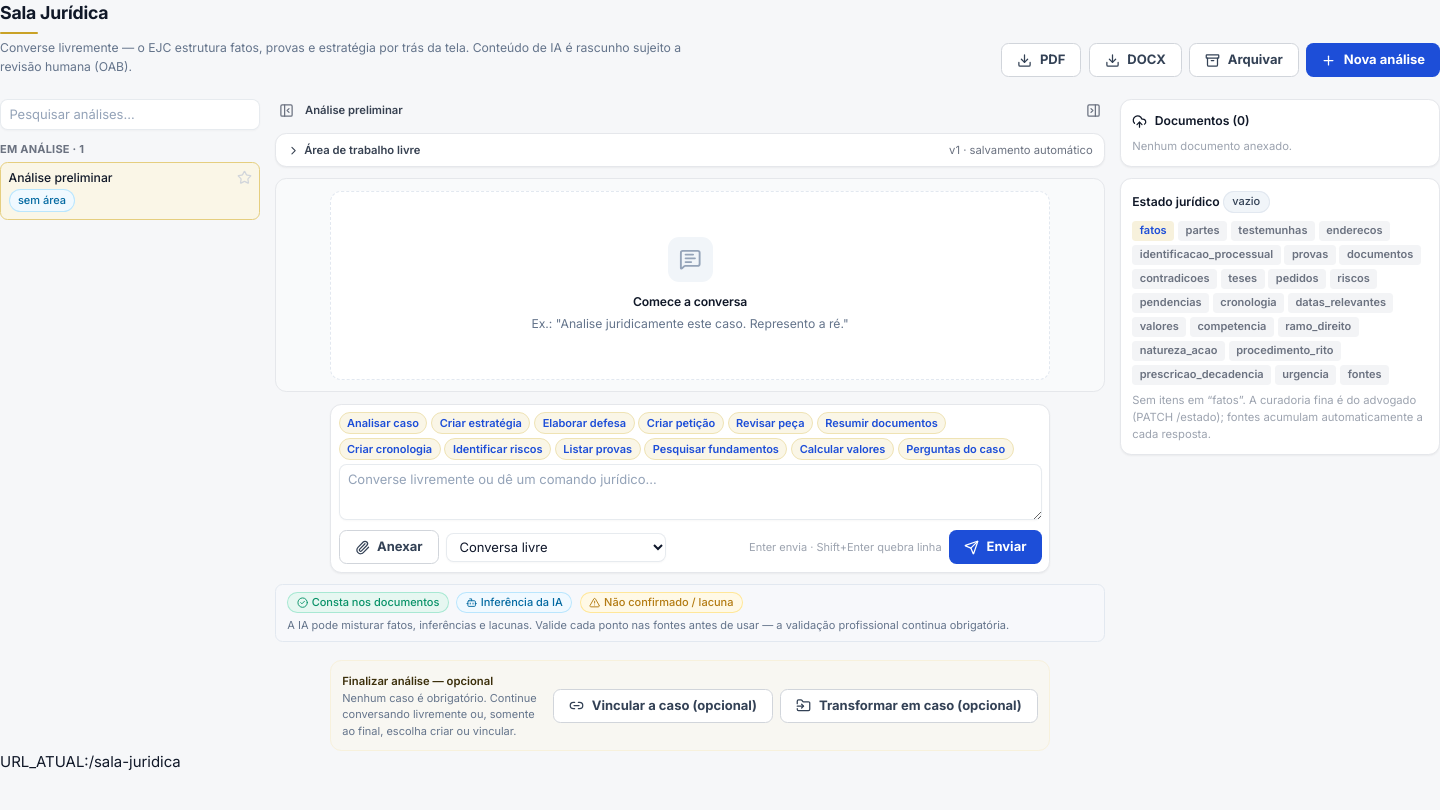
Test case: Sala Jurídica — wizard de conversão › o 409 do servidor revela o checkbox de duplicidade (não vira beco sem saída)
Expected: the text "Análise preliminar" below "Em análise" is shown, [8,170,112,185]
Click the button "Transformar em caso (opcional)" at (909, 706), box [780,689,1038,723]
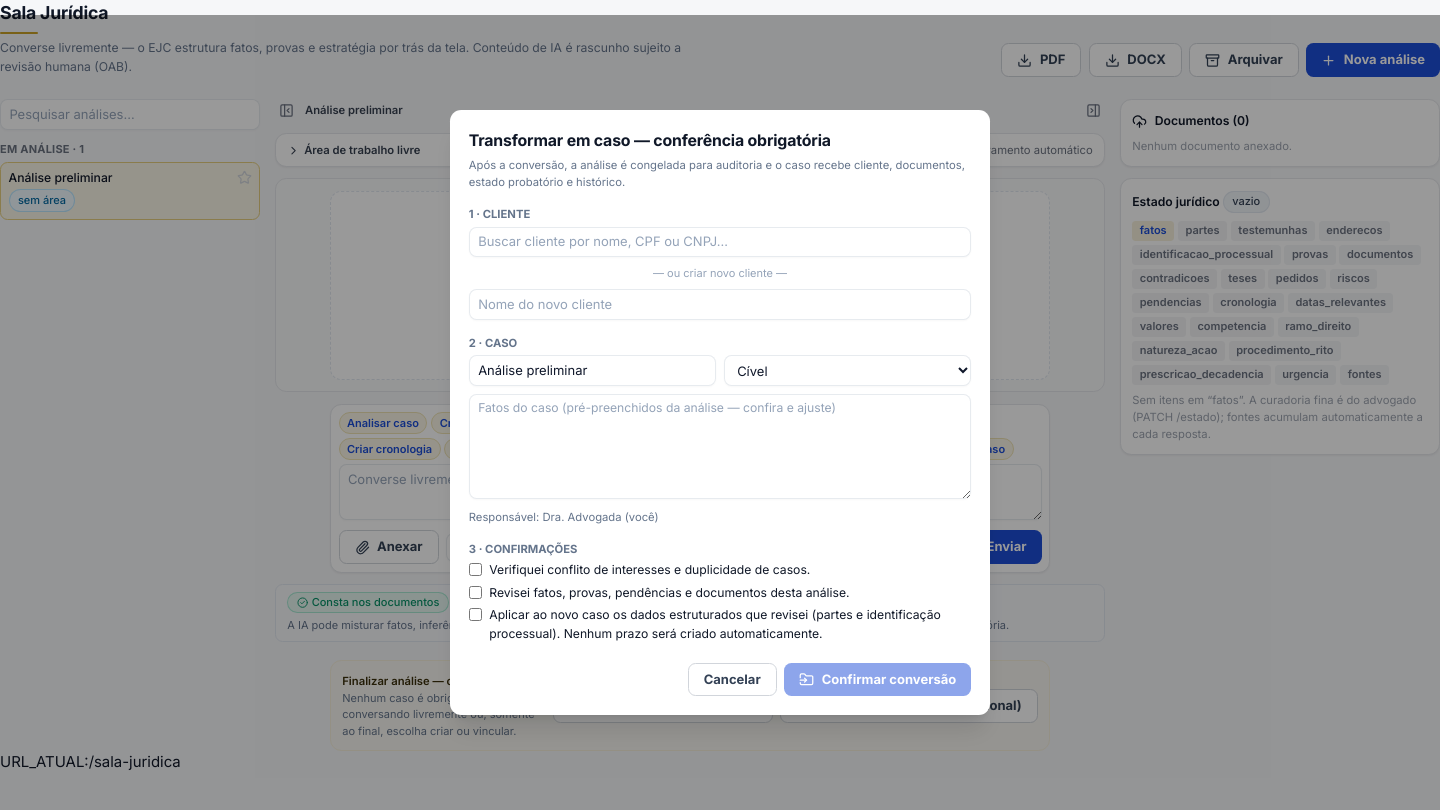
Result: the heading "Transformar em caso — conferência obrigatória" is shown at [469,131,831,150]
Type "Construtora Beta" into the field with placeholder "Nome do novo cliente" at (720, 304), box [469,289,971,320]
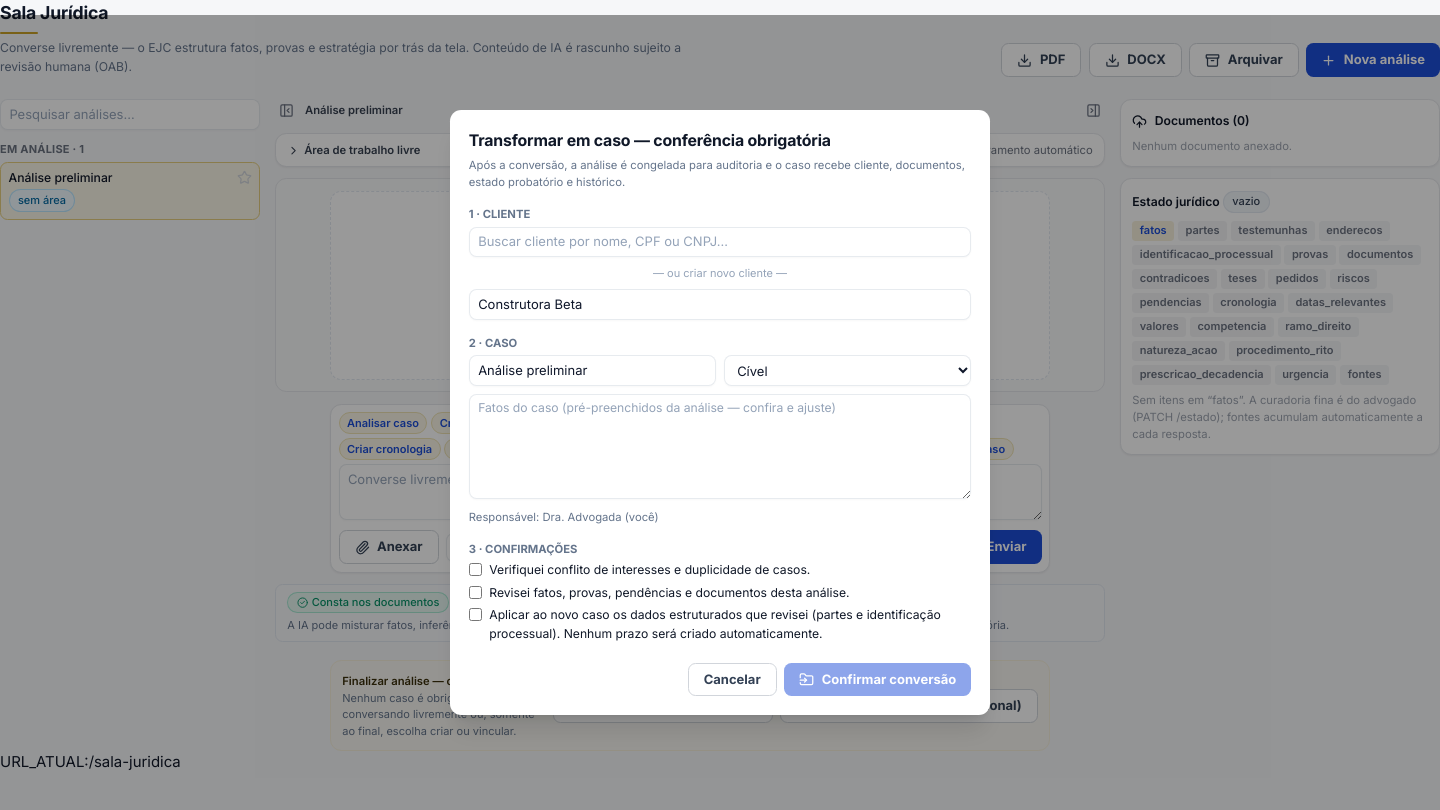
Click the checkbox labelled "Verifiquei conflito de interesses e duplicidade de casos." at (475, 570), box [469,563,482,576]
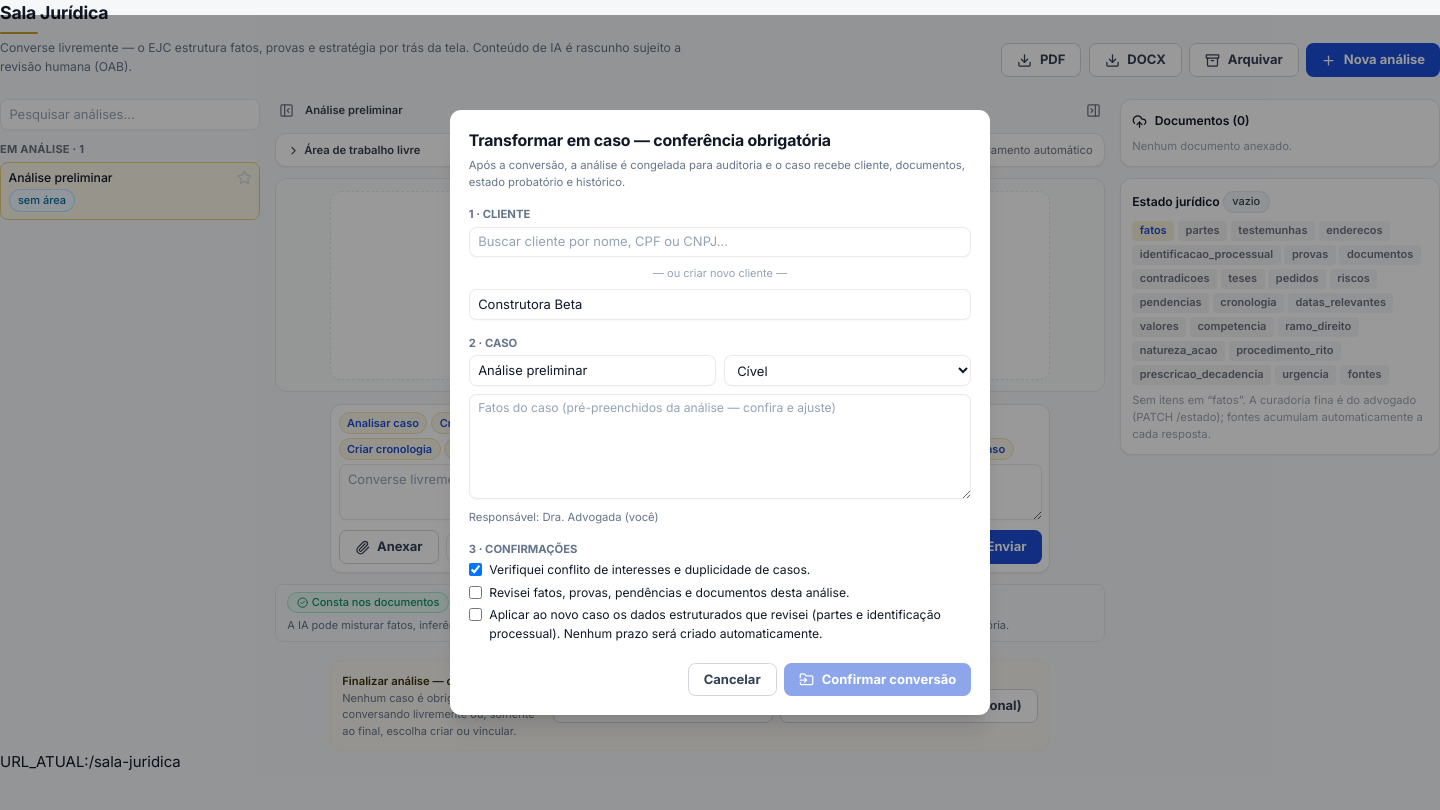
Click the checkbox labelled "Revisei fatos, provas, pendências e documentos" at (475, 592), box [469,586,482,599]
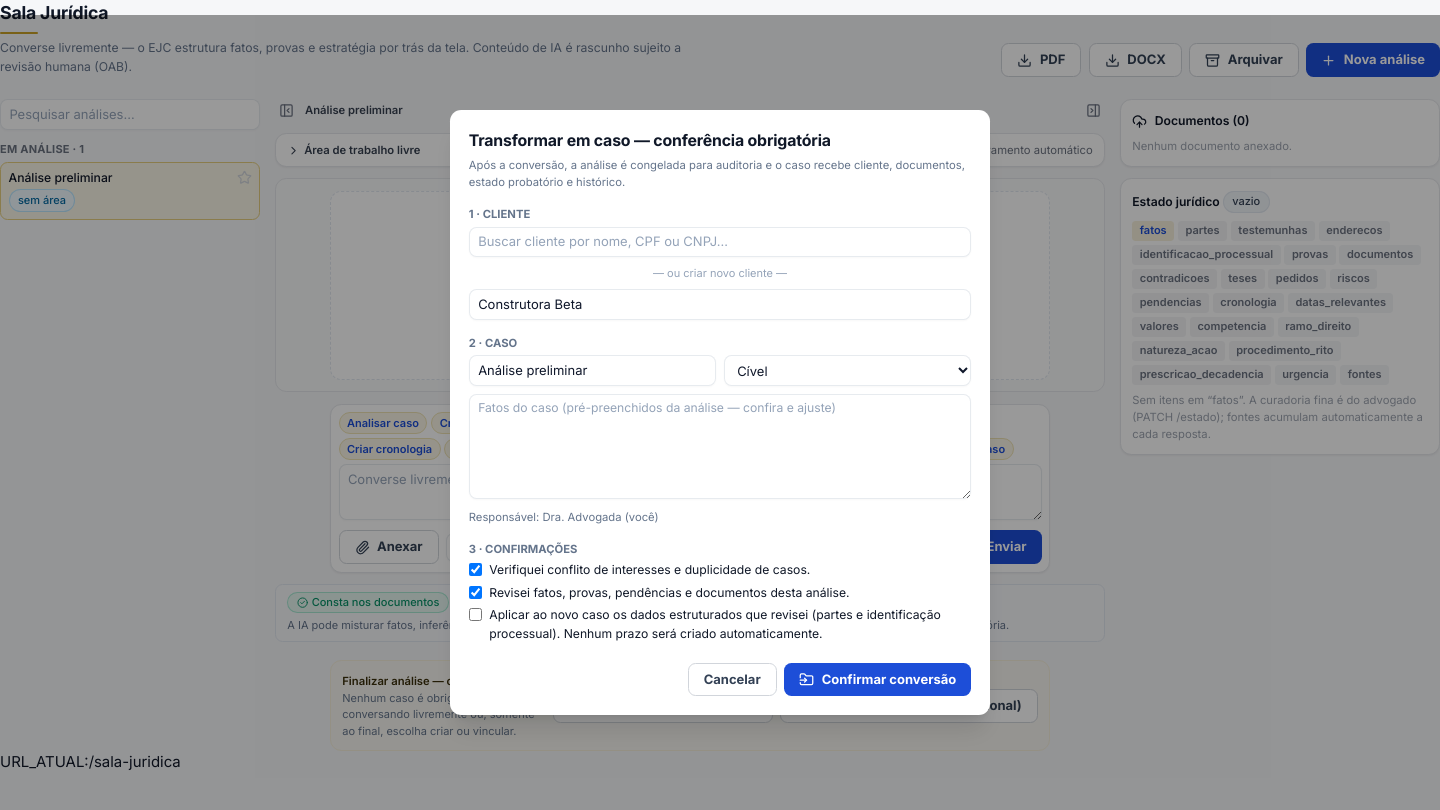
Result: the button "Confirmar conversão" is enabled
Click the button "Confirmar conversão" at (878, 679), box [784,662,971,696]
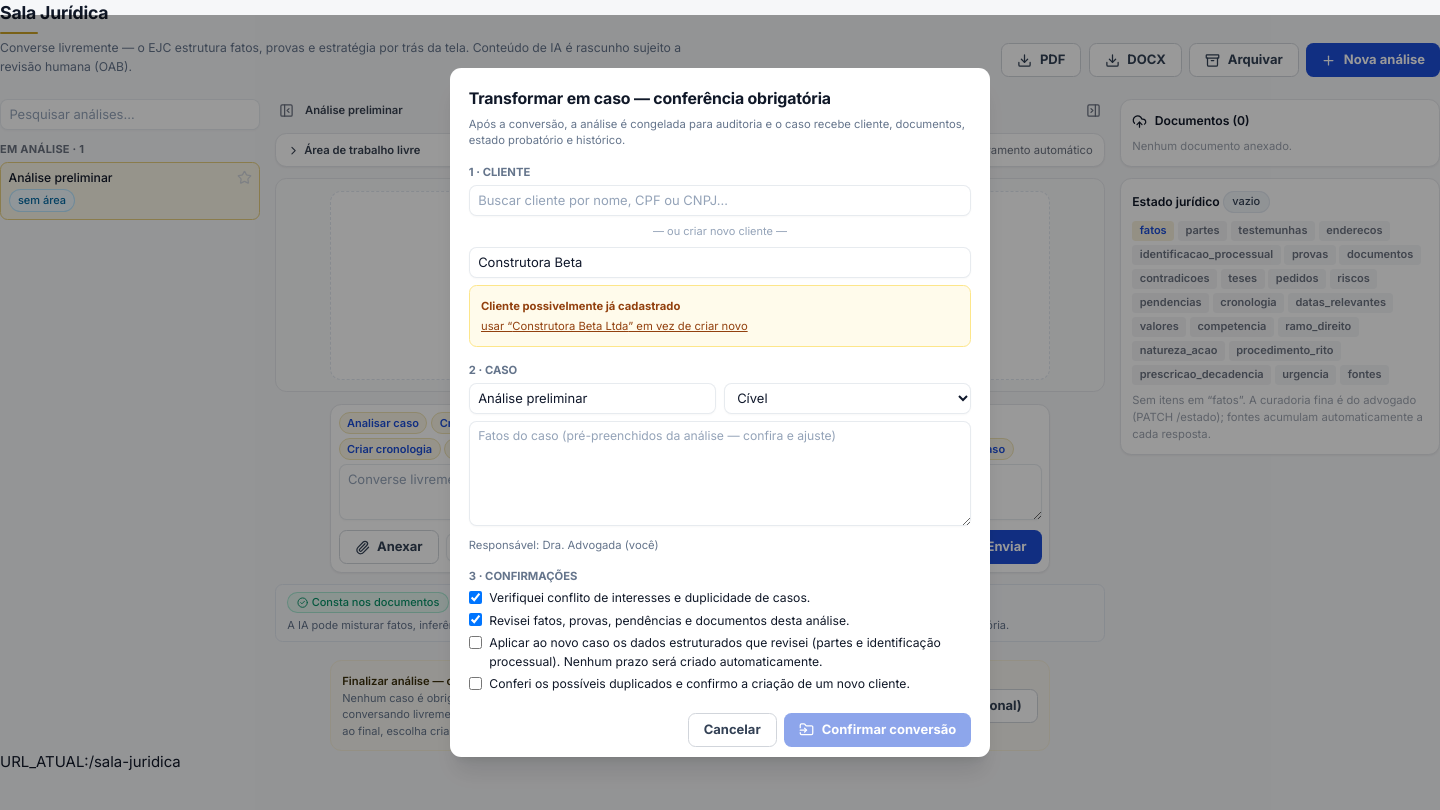
Result: the text "Cliente possivelmente já cadastrado" is shown at [481,299,680,313]
Result: the text "confirmo a criação de um novo cliente" is shown at [489,676,910,691]
